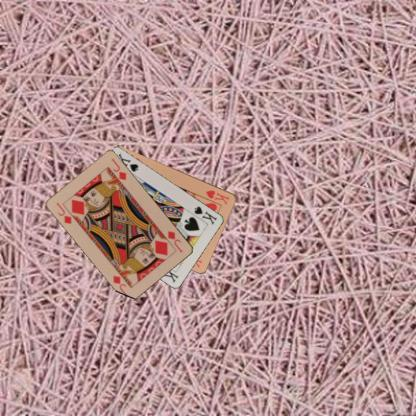Jd: (165, 228, 184, 254), (54, 200, 73, 225)
Kh: (204, 187, 231, 206)
Ks: (192, 203, 218, 226)
